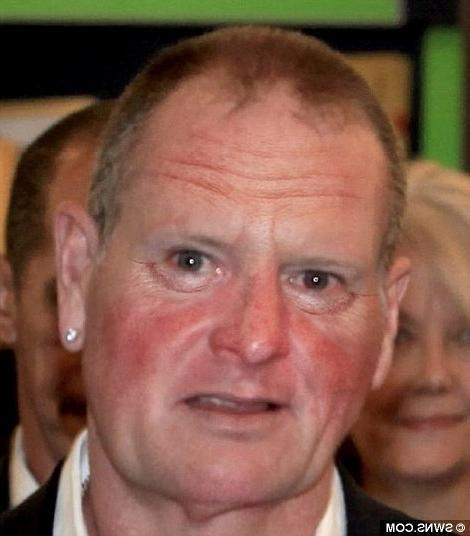Drunk: (130, 92, 381, 501)
